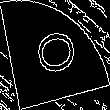O_W: (30, 29, 80, 81)
